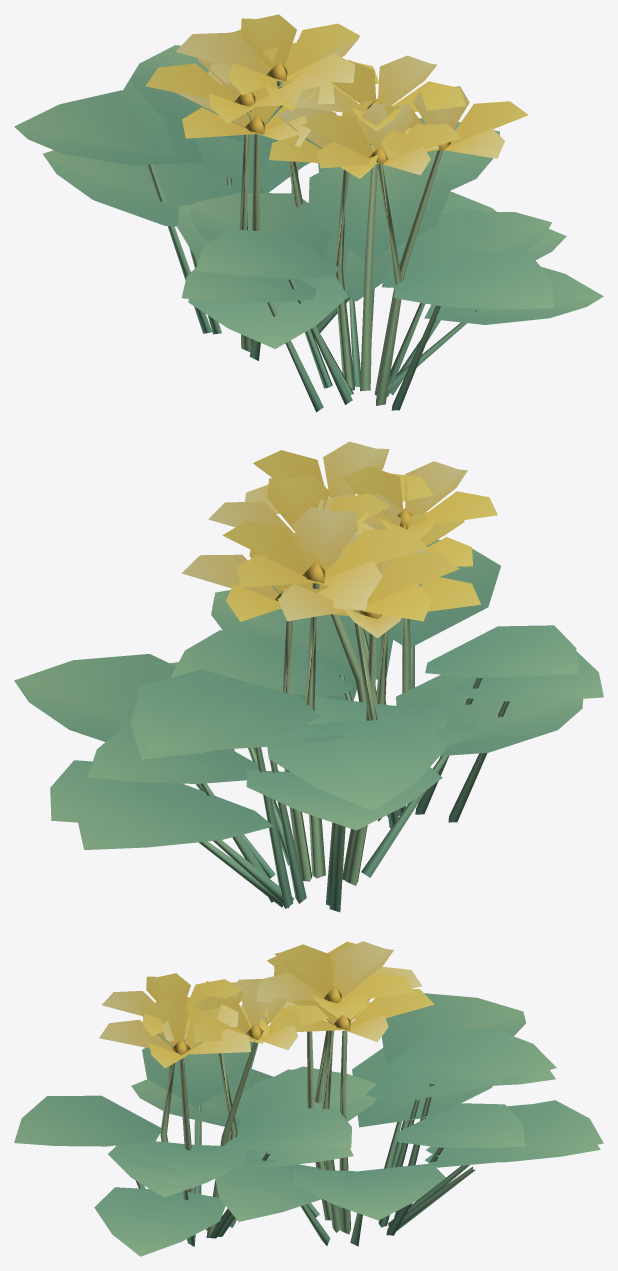
File: kingcup_patch_a_mid.glb
The picture shows the model from 3 angles, top to bottom: view 1: azimuth 30°, elevation 25°; view 2: azimuth 150°, elevation 25°; view 3: azimuth 270°, elevation 25°; orthographic projection. The views are drawn at different scales.
Visible parts, largest first — view 1: soft; view 2: soft; view 3: soft.
Boxes of the visible parts, left/top/right/bottom form: soft: left=14, top=14, right=603, bottom=412; soft: left=14, top=441, right=603, bottom=912; soft: left=14, top=941, right=603, bottom=1256.
Bounding box in the file's own units: 0.5585 × 0.3773 × 0.7735.
